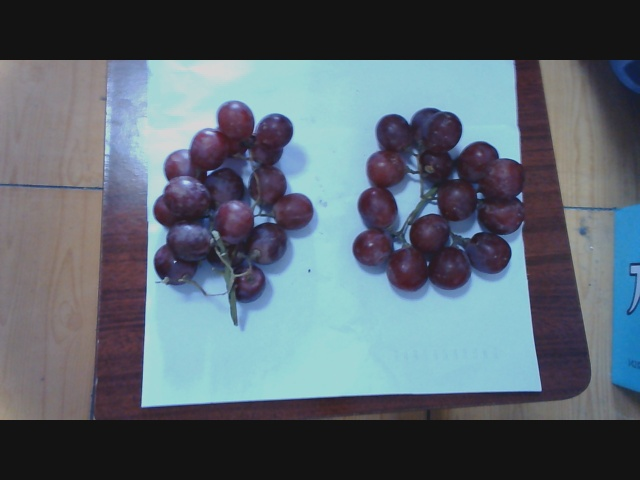grape: (338, 79, 523, 304), (147, 107, 308, 322)
